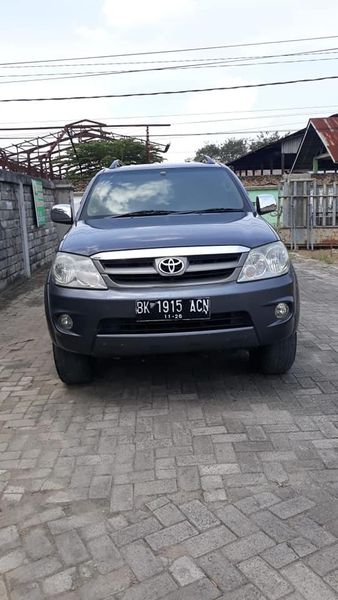plate: (128, 289, 216, 322)
